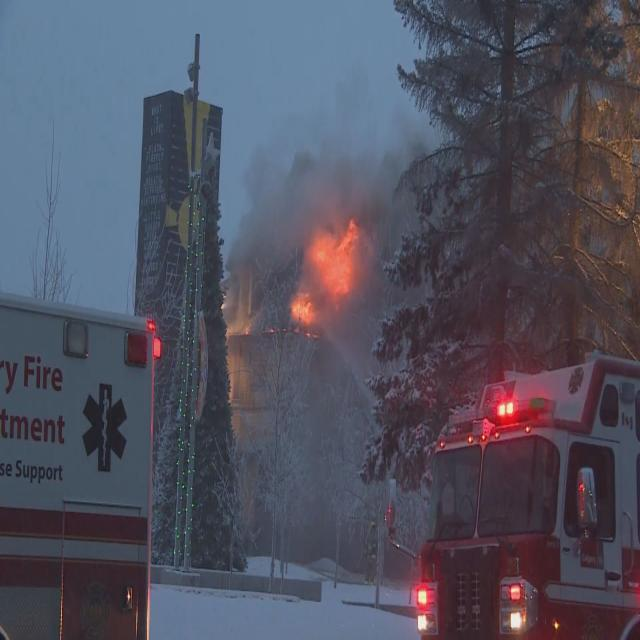Fire: (258, 214, 386, 342)
